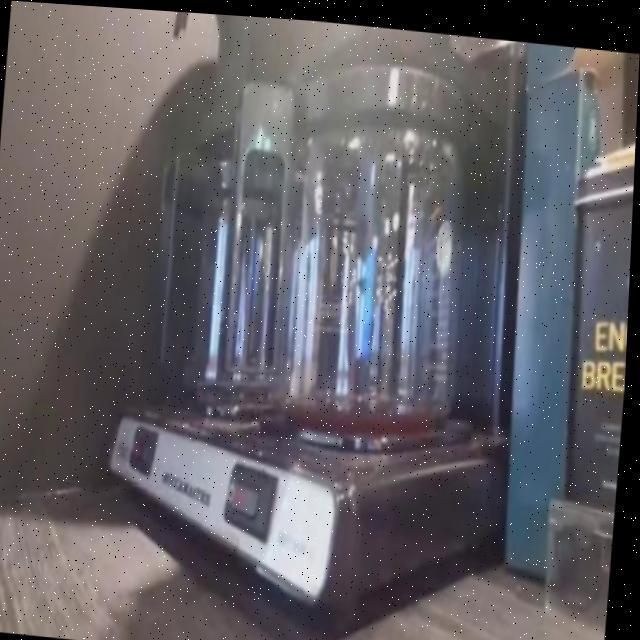nocoffee: (274, 137, 477, 412), (186, 196, 283, 405)
